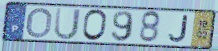8: (138, 10, 163, 45)
9: (111, 10, 135, 43)
J: (168, 14, 189, 44)
O: (24, 7, 54, 40), (81, 8, 108, 43)
U: (53, 7, 82, 41)
